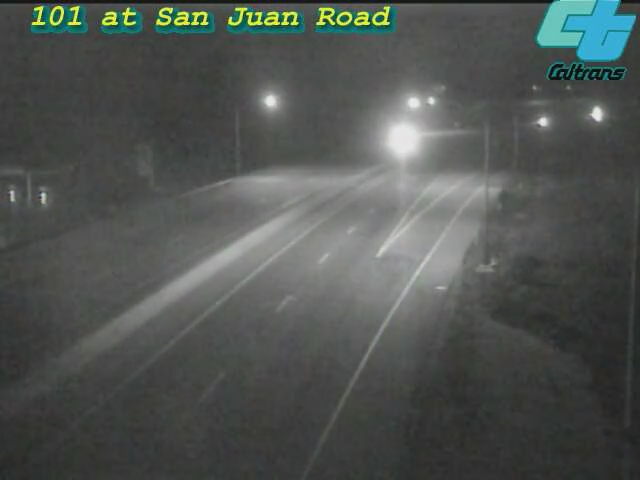vehicle: (373, 115, 423, 165), (514, 96, 564, 146), (574, 90, 624, 140)
